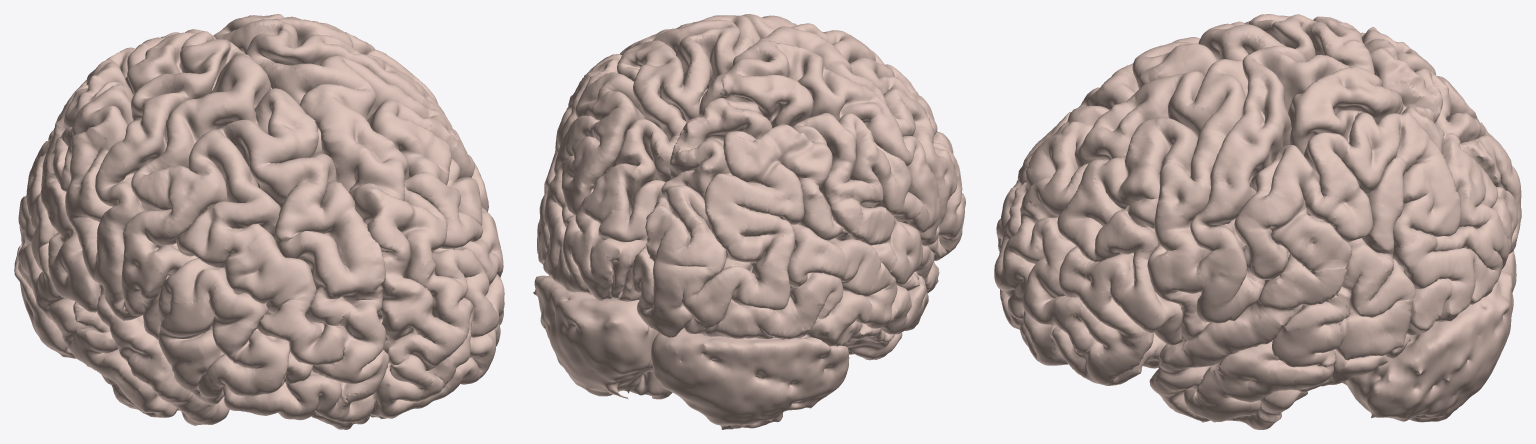
File: human-brain.glb
The picture shows the model from 3 angles, left to right: view 1: azimuth 30°, elevation 25°; view 2: azimuth 150°, elevation 25°; view 3: azimuth 270°, elevation 25°; orthographic projection. The views are drawn at different scales.
Parts seen in each view (by area): view 1: lh.rostralmiddlefrontal, lh.superiorfrontal, rh.superiorfrontal, lh.precentral, rh.rostralmiddlefrontal, lh.postcentral, lh.superiortemporal, lh.middletemporal, lh.supramarginal, lh.caudalmiddlefrontal, rh.precentral, rh.postcentral (+16 smaller); view 2: Left-Cerebellum-Cortex, lh.lateraloccipital, lh.inferiorparietal, lh.superiorparietal, Right-Cerebellum-Cortex, rh.superiorparietal, lh.postcentral, rh.inferiorparietal, lh.supramarginal, lh.middletemporal, rh.lateraloccipital, lh.precentral (+16 smaller); view 3: rh.inferiorparietal, rh.middletemporal, rh.rostralmiddlefrontal, rh.postcentral, Right-Cerebellum-Cortex, rh.precentral, rh.superiorfrontal, rh.supramarginal, rh.superiorparietal, rh.lateraloccipital, rh.superiortemporal, rh.parstriangularis (+14 smaller).
Boxes of the visible parts, <box> form: lh.rostralmiddlefrontal: <box>205,224,348,420</box>; lh.superiorfrontal: <box>230,88,389,394</box>; rh.superiorfrontal: <box>299,82,465,391</box>; lh.precentral: <box>121,49,266,339</box>; rh.rostralmiddlefrontal: <box>404,173,504,408</box>; lh.postcentral: <box>82,39,230,320</box>; lh.superiortemporal: <box>40,181,210,413</box>; lh.middletemporal: <box>26,153,177,417</box>; lh.supramarginal: <box>41,81,133,247</box>; lh.caudalmiddlefrontal: <box>176,122,280,268</box>; rh.precentral: <box>271,55,488,211</box>; rh.postcentral: <box>246,31,462,143</box>; Left-Cerebellum-Cortex: <box>651,328,849,429</box>; lh.lateraloccipital: <box>636,222,823,339</box>; lh.inferiorparietal: <box>704,124,844,262</box>; lh.superiorparietal: <box>661,58,813,235</box>; Right-Cerebellum-Cortex: <box>533,275,672,399</box>; rh.superiorparietal: <box>584,29,712,226</box>; lh.postcentral: <box>748,40,940,246</box>; rh.inferiorparietal: <box>545,58,644,215</box>; lh.supramarginal: <box>792,113,921,237</box>; lh.middletemporal: <box>787,223,928,334</box>; rh.lateraloccipital: <box>538,178,613,300</box>; lh.precentral: <box>747,26,956,227</box>; rh.inferiorparietal: <box>1304,111,1461,276</box>; rh.middletemporal: <box>1183,240,1415,422</box>; rh.rostralmiddlefrontal: <box>1000,159,1158,365</box>; rh.postcentral: <box>1190,45,1300,323</box>; Right-Cerebellum-Cortex: <box>1342,270,1513,422</box>; rh.precentral: <box>1147,59,1248,341</box>; rh.superiorfrontal: <box>994,71,1207,305</box>; rh.supramarginal: <box>1234,145,1351,286</box>; rh.superiorparietal: <box>1272,54,1491,206</box>; rh.lateraloccipital: <box>1393,193,1511,335</box>; rh.superiortemporal: <box>1149,251,1346,414</box>; rh.parstriangularis: <box>1059,253,1154,382</box>.
Bounding box in the file's own units: 3.75 × 3.36 × 4.6.
